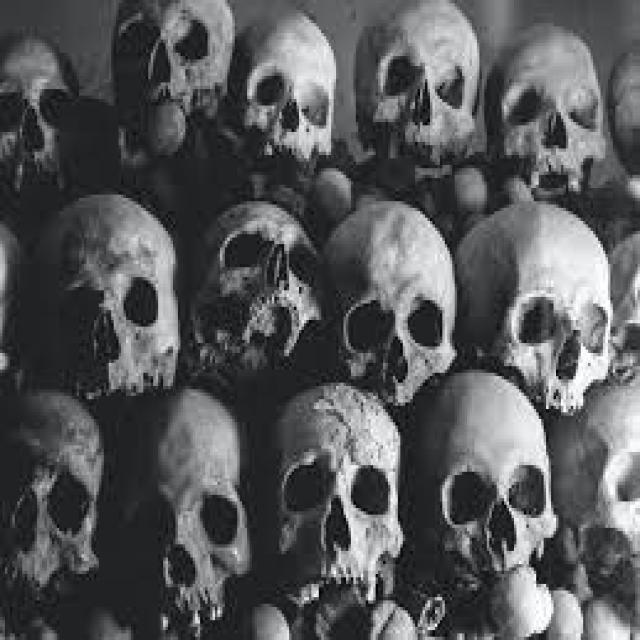skull: (270, 370, 406, 620)
